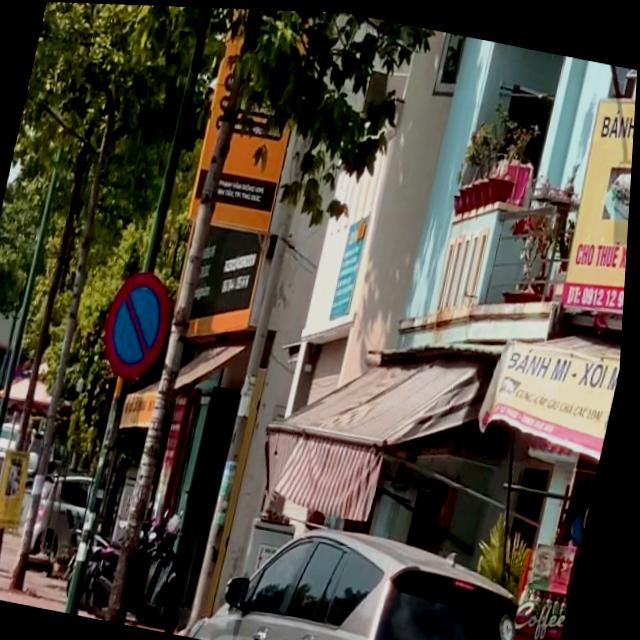Cam do xe: (100, 265, 184, 384)
